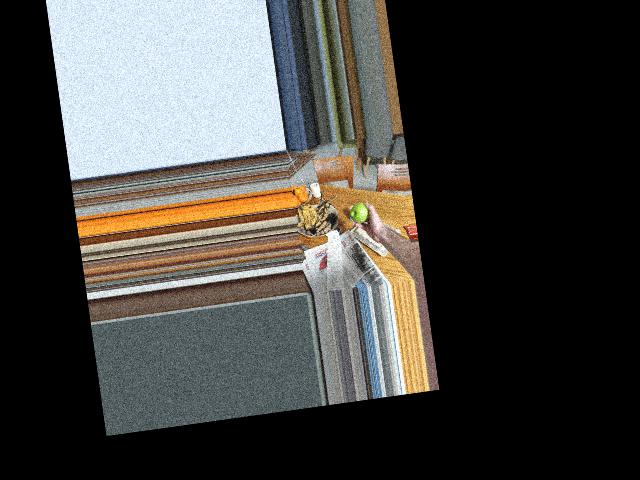apple: (350, 200, 373, 226)
